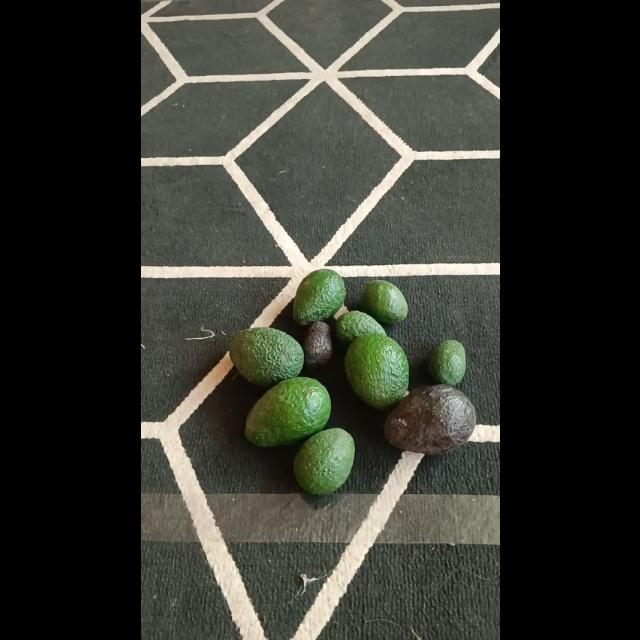Primera: (384, 384, 474, 454), (244, 376, 330, 444), (344, 332, 411, 408), (228, 327, 302, 388)
Segunda: (292, 426, 354, 494), (291, 268, 345, 324)
Tercera: (358, 278, 408, 324), (427, 338, 465, 387), (335, 309, 385, 343), (302, 320, 332, 368)
